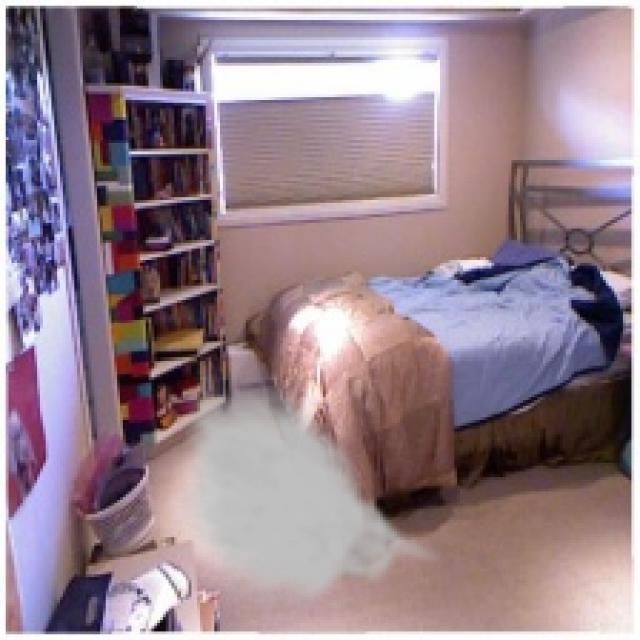Smoke: (172, 374, 448, 612)
